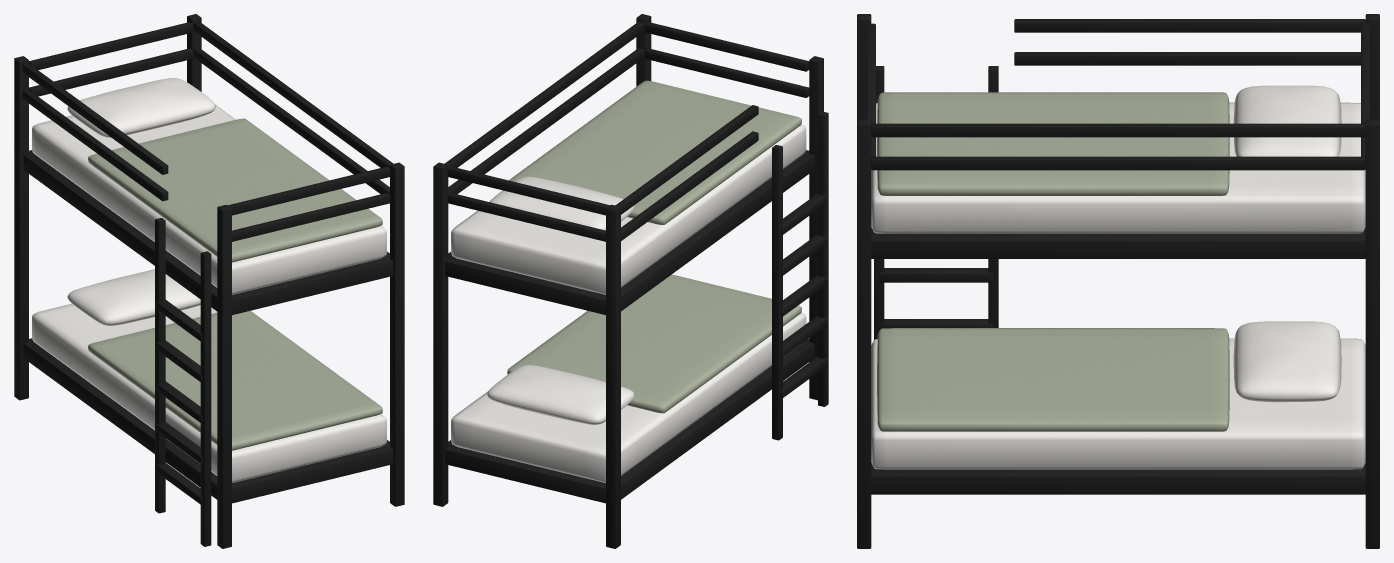
The model's file is litera_metal_90_izquierda.glb.
3 renders of one model, left to right at view 1: azimuth 30°, elevation 25°; view 2: azimuth 150°, elevation 25°; view 3: azimuth 270°, elevation 25°, orthographic. The views are drawn at different scales.
Parts seen in each view (by area): view 1: litera_metal_90_izquierda; view 2: litera_metal_90_izquierda; view 3: litera_metal_90_izquierda.
Part boxes in pixels (left/top/right/bottom): litera_metal_90_izquierda: left=14, top=14, right=404, bottom=548; litera_metal_90_izquierda: left=433, top=14, right=828, bottom=548; litera_metal_90_izquierda: left=857, top=14, right=1379, bottom=548.
Size of the model in its own units: 1.09 by 1.8 by 2.01.
Materials: 3 (2 with a texture image).
